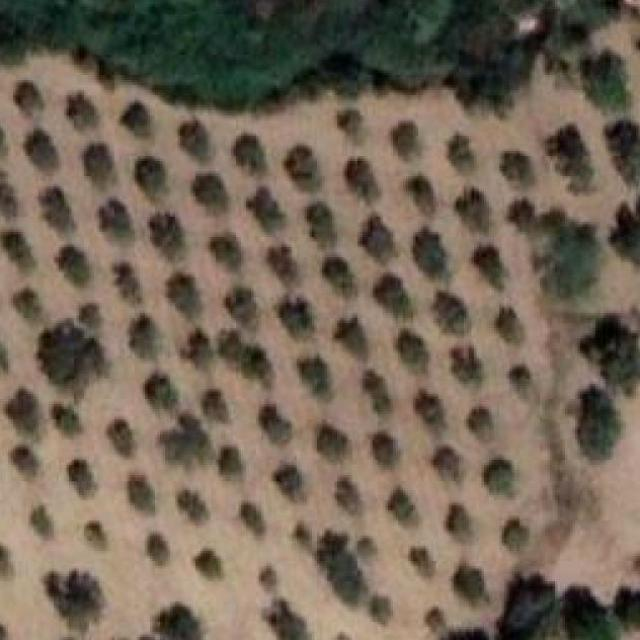Tree: (532, 207, 608, 300), (580, 315, 640, 394), (496, 568, 560, 640), (315, 520, 364, 614), (568, 392, 624, 462), (216, 331, 280, 391), (49, 571, 105, 634), (39, 320, 88, 386), (558, 583, 614, 640), (548, 124, 594, 192), (583, 50, 632, 112), (449, 561, 494, 617), (258, 596, 312, 640), (610, 191, 640, 266), (398, 539, 441, 591), (165, 414, 210, 463), (246, 189, 292, 236), (496, 301, 534, 355), (143, 604, 200, 640), (607, 115, 640, 176), (6, 386, 47, 435), (489, 515, 536, 557), (383, 480, 422, 529), (254, 399, 292, 447), (438, 493, 476, 541), (479, 242, 514, 293), (376, 274, 413, 321), (38, 188, 75, 234), (285, 145, 321, 192), (165, 480, 206, 521), (360, 369, 394, 418), (413, 227, 445, 279), (360, 215, 395, 262), (612, 573, 640, 631), (150, 215, 184, 262), (345, 159, 381, 203), (422, 387, 457, 431), (274, 460, 314, 498), (211, 443, 248, 484), (26, 129, 61, 172), (457, 189, 492, 232), (507, 362, 542, 405), (279, 298, 316, 338), (99, 200, 133, 243), (84, 144, 118, 187), (193, 174, 230, 213), (332, 473, 365, 516), (449, 343, 488, 379), (180, 328, 214, 369), (167, 272, 196, 318), (396, 331, 427, 374), (317, 419, 348, 462), (198, 397, 236, 432), (67, 93, 101, 132), (135, 156, 166, 198), (484, 458, 518, 496), (6, 227, 36, 270), (226, 288, 256, 330), (299, 358, 329, 400), (145, 374, 179, 411), (335, 318, 366, 358), (508, 194, 538, 235), (84, 336, 113, 377), (119, 100, 151, 137), (266, 247, 298, 284), (368, 432, 398, 471), (469, 394, 498, 434), (322, 257, 350, 298), (236, 495, 264, 536), (234, 136, 265, 173), (438, 293, 465, 335), (130, 316, 156, 359), (13, 80, 44, 116), (180, 118, 207, 159), (59, 247, 85, 286), (107, 419, 133, 458), (431, 448, 461, 481), (393, 120, 419, 158), (69, 460, 95, 498), (310, 205, 333, 247), (501, 151, 530, 184), (117, 265, 141, 304), (211, 237, 239, 270), (355, 526, 381, 561), (13, 442, 43, 472), (192, 544, 221, 575), (130, 475, 153, 513), (448, 134, 470, 172), (337, 108, 363, 140), (54, 404, 79, 437), (0, 176, 23, 211), (411, 180, 434, 215), (31, 505, 55, 538), (148, 534, 171, 567), (290, 515, 311, 551), (256, 559, 280, 587), (16, 293, 40, 319), (79, 303, 100, 329), (87, 523, 106, 551)
